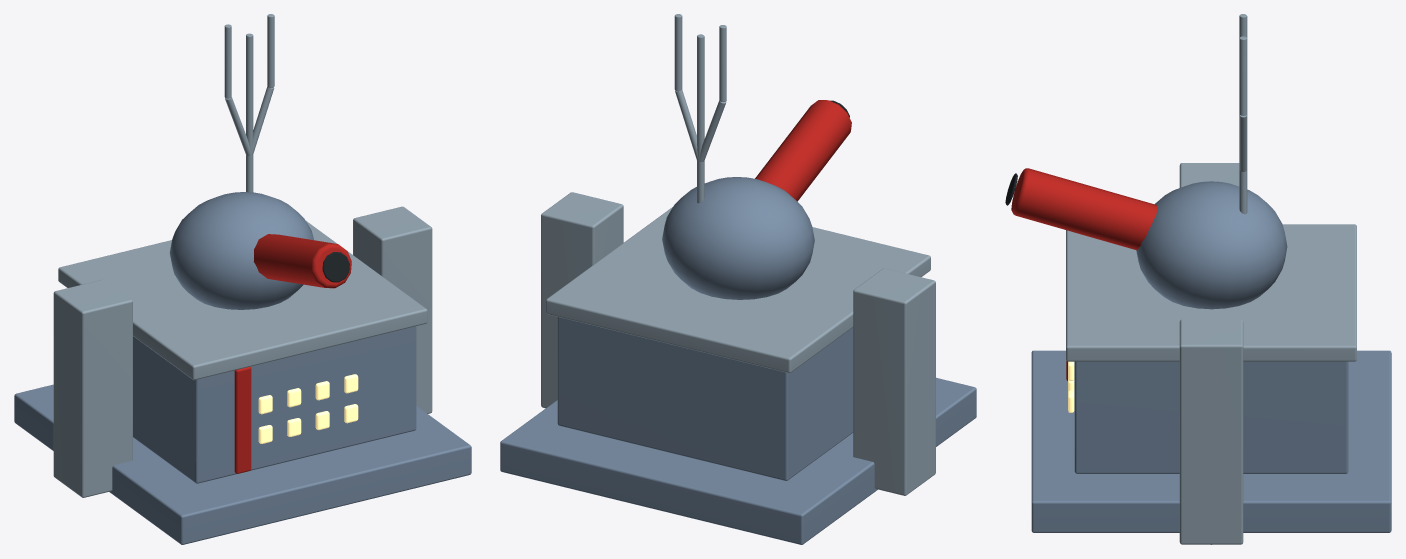
3 views of the same model, side by side, from view 1: azimuth 30°, elevation 25°; view 2: azimuth 150°, elevation 25°; view 3: azimuth 270°, elevation 25° (orthographic). The views are drawn at different scales.
Visible parts, largest first — view 1: Modular block storey, Foundation slab, Block roof ledge, Block buttress.001, Weapon pivot, Block buttress, Weapon barrel, Vertical block colour strip, Aerial stem, Weapon dark bore, Aerial fork tine, Aerial fork tine.001; view 2: Modular block storey, Block roof ledge, Foundation slab, Block buttress.001, Weapon pivot, Block buttress, Weapon barrel, Aerial stem, Aerial fork tine.001, Aerial fork tine; view 3: Foundation slab, Block roof ledge, Modular block storey, Weapon pivot, Block buttress, Weapon barrel, Block buttress.001, Aerial fork tine.001, Aerial fork.001.
Boxes of the visible parts, x1,y1,x2,y2 form: Modular block storey: [133, 326, 416, 483]; Foundation slab: [14, 384, 471, 544]; Block roof ledge: [58, 221, 427, 380]; Block buttress.001: [53, 279, 132, 497]; Weapon pivot: [169, 192, 313, 309]; Block buttress: [353, 206, 432, 413]; Weapon barrel: [253, 234, 351, 288]; Vertical block colour strip: [234, 367, 251, 473]; Aerial stem: [246, 33, 253, 192]; Weapon dark bore: [322, 252, 349, 282]; Aerial fork tine: [224, 24, 231, 98]; Aerial fork tine.001: [267, 14, 274, 87]; Modular block storey: [557, 317, 853, 480]; Block roof ledge: [546, 207, 930, 373]; Foundation slab: [500, 377, 976, 544]; Block buttress.001: [853, 268, 935, 495]; Weapon pivot: [662, 177, 814, 299]; Block buttress: [541, 192, 623, 408]; Weapon barrel: [755, 100, 851, 201]; Aerial stem: [697, 34, 704, 203]; Aerial fork tine.001: [674, 14, 682, 91]; Aerial fork tine: [719, 25, 726, 102]; Foundation slab: [1031, 350, 1391, 532]; Block roof ledge: [1066, 224, 1356, 361]; Modular block storey: [1074, 361, 1348, 473]; Weapon pivot: [1136, 181, 1287, 309]; Block buttress: [1179, 319, 1243, 544]; Weapon barrel: [1011, 168, 1157, 250]; Block buttress.001: [1179, 163, 1239, 187]; Aerial fork tine.001: [1239, 36, 1247, 115]; Aerial fork.001: [1239, 115, 1247, 171].
Size of the model in its own units: 2.46 by 2.77 by 2.19.
